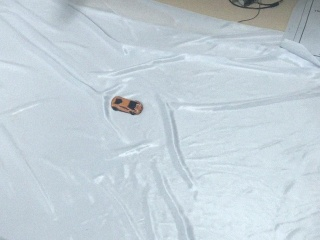toy_car: (111, 95, 143, 115)
